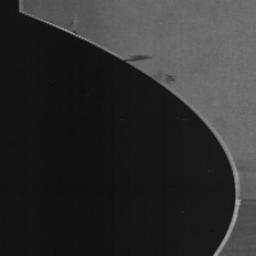Crescent gap: (20, 13, 235, 256)
